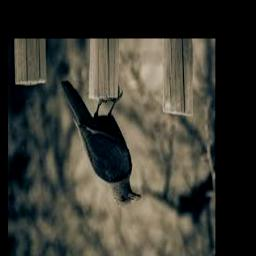Crow: (59, 81, 141, 207)
